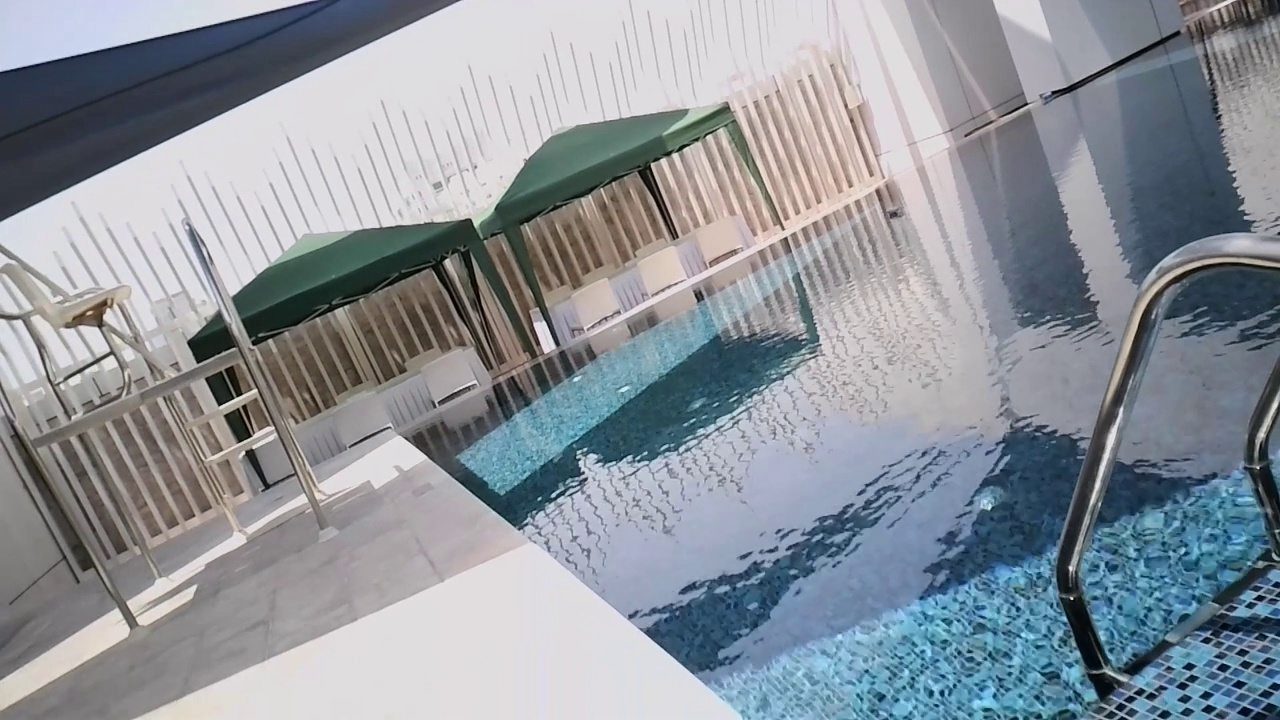debris: (884, 206, 906, 222)
